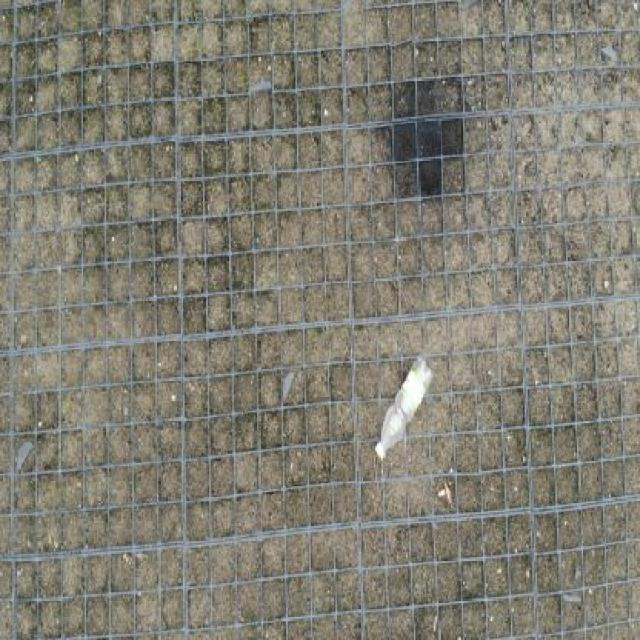Garbage: (372, 355, 432, 460)
